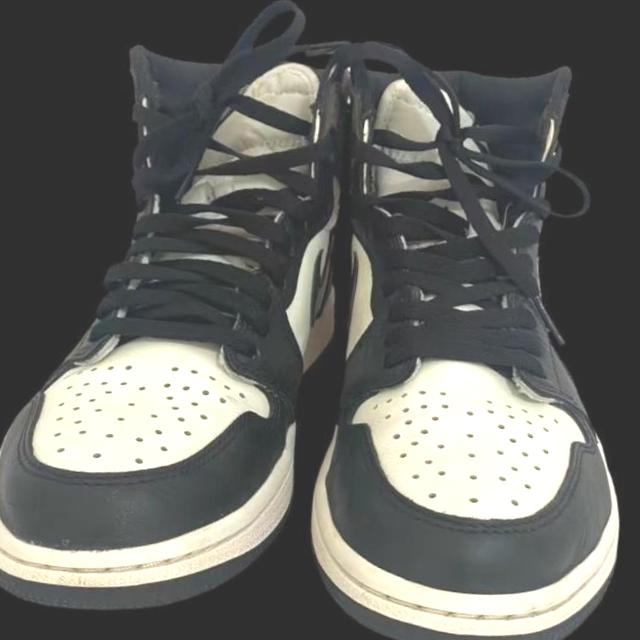nike_original_jordan: (0, 7, 391, 638), (258, 31, 640, 640)
